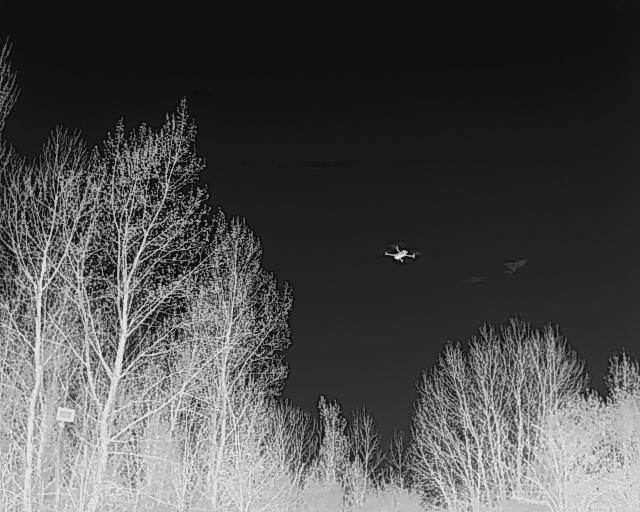drone: (377, 238, 423, 270)
